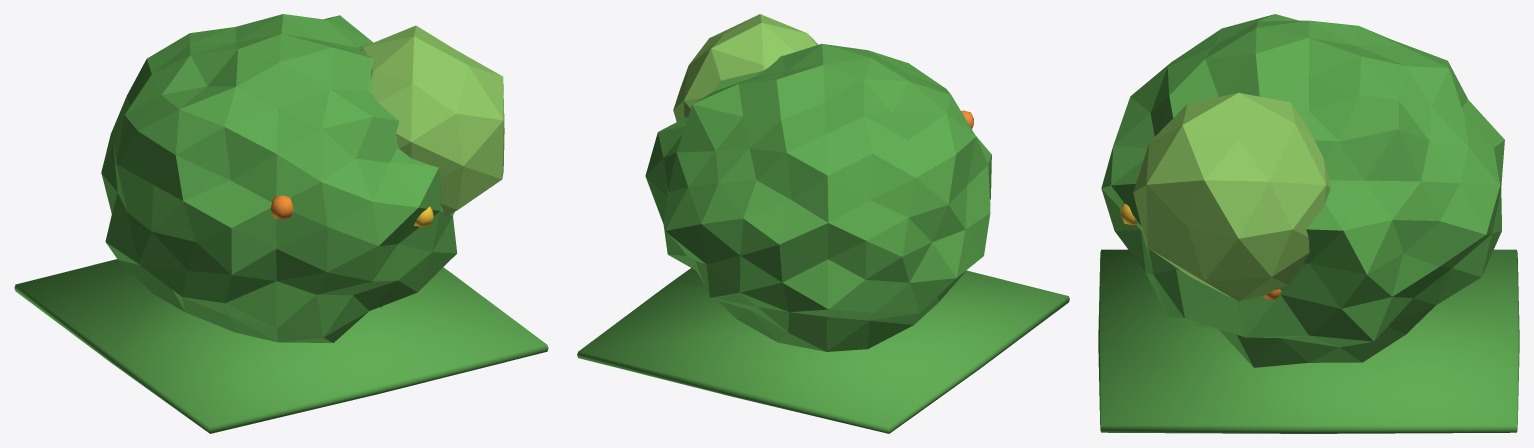
Rendered from bush_round.glb.
3 views of the same model, side by side, from view 1: azimuth 30°, elevation 25°; view 2: azimuth 150°, elevation 25°; view 3: azimuth 270°, elevation 25° (orthographic). The views are drawn at different scales.
Visible parts, largest first — view 1: root; view 2: root; view 3: root.
Boxes of the visible parts, left/top/right/bottom form: root: left=14, top=14, right=548, bottom=433; root: left=577, top=14, right=1069, bottom=433; root: left=1098, top=14, right=1519, bottom=433.
Bounding box in the file's own units: 1.26 × 0.9733 × 1.2.
